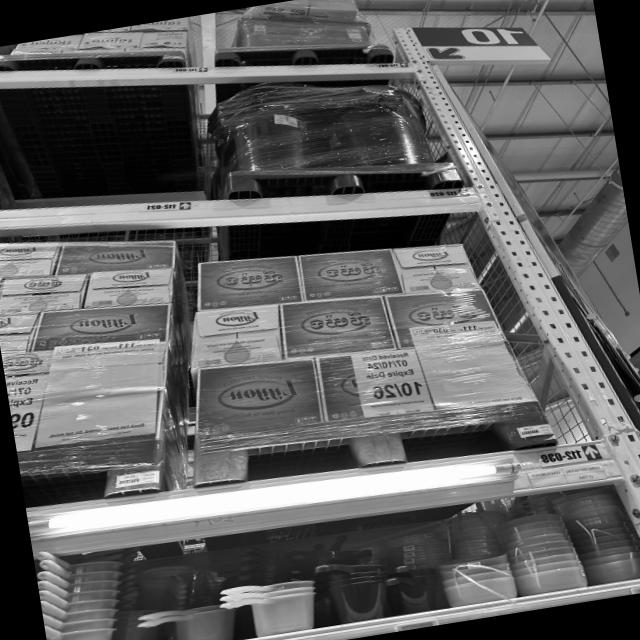Yolov11kh: (301, 308, 387, 340), (320, 258, 391, 285), (223, 264, 292, 291)
